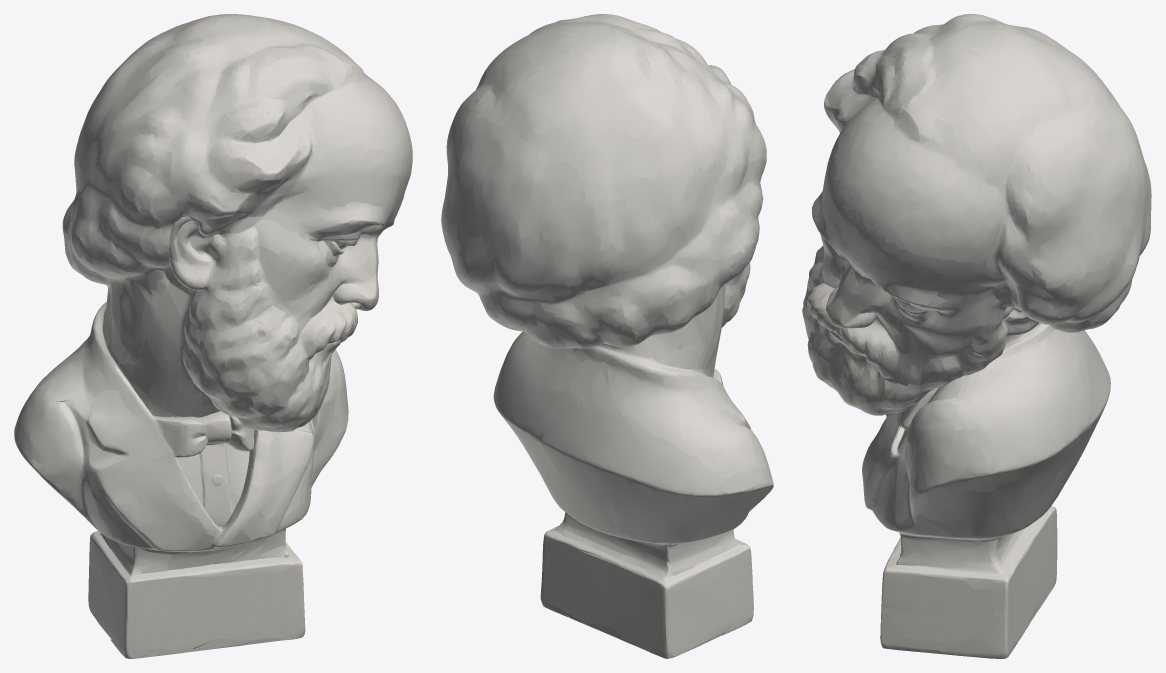
Rendered from oversized_scholar_bust.glb.
3 renders of one model, left to right at view 1: azimuth 30°, elevation 25°; view 2: azimuth 150°, elevation 25°; view 3: azimuth 270°, elevation 25°, orthographic. The views are drawn at different scales.
Parts seen in each view (by area): view 1: Mesh_0; view 2: Mesh_0; view 3: Mesh_0.
Part boxes in pixels (<box>): Mesh_0: <box>14,14,412,658</box>; Mesh_0: <box>441,14,773,658</box>; Mesh_0: <box>802,14,1151,658</box>.
Size of the model in its own units: 0.3108 by 0.52 by 0.2729.
1 material, 1 textured.
